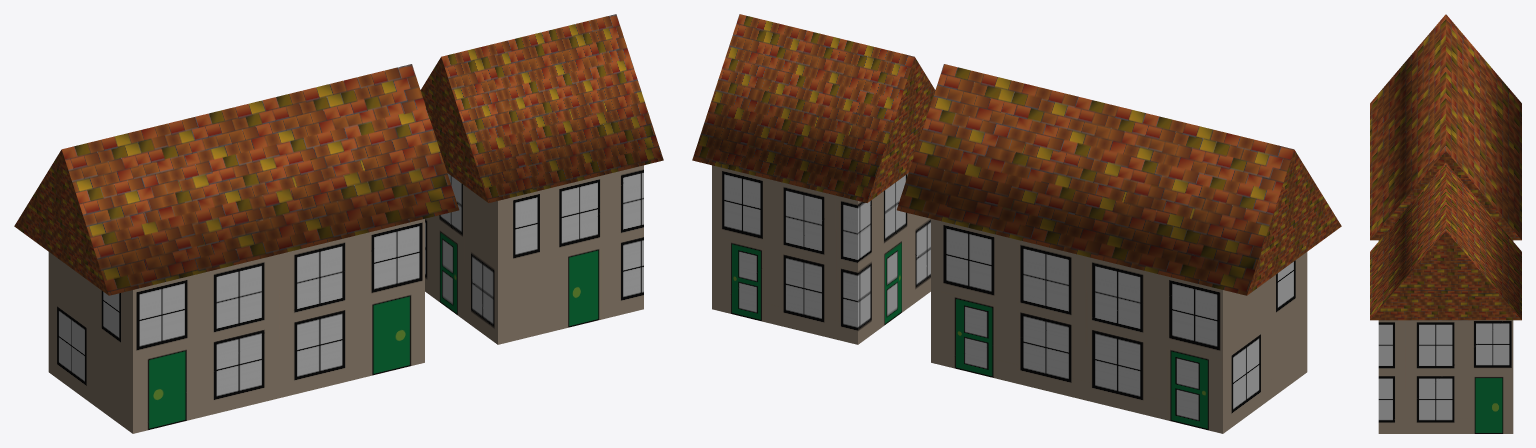
File: fangzi.glb
3 views of the same model, side by side, from view 1: azimuth 30°, elevation 25°; view 2: azimuth 150°, elevation 25°; view 3: azimuth 270°, elevation 25° (orthographic). The views are drawn at different scales.
Parts seen in each view (by area): view 1: semi_house, detached_house; view 2: semi_house, detached_house; view 3: detached_house, semi_house.
Boxes of the visible parts, x1,y1,x2,y2 form: semi_house: [14, 64, 459, 433]; detached_house: [420, 14, 663, 344]; semi_house: [896, 64, 1341, 433]; detached_house: [692, 14, 935, 344]; detached_house: [1370, 163, 1521, 433]; semi_house: [1370, 14, 1521, 240].
Size of what is drawn, in the model's own units: 3.8 by 1.71 by 1.13.
2 materials, 2 textured.
